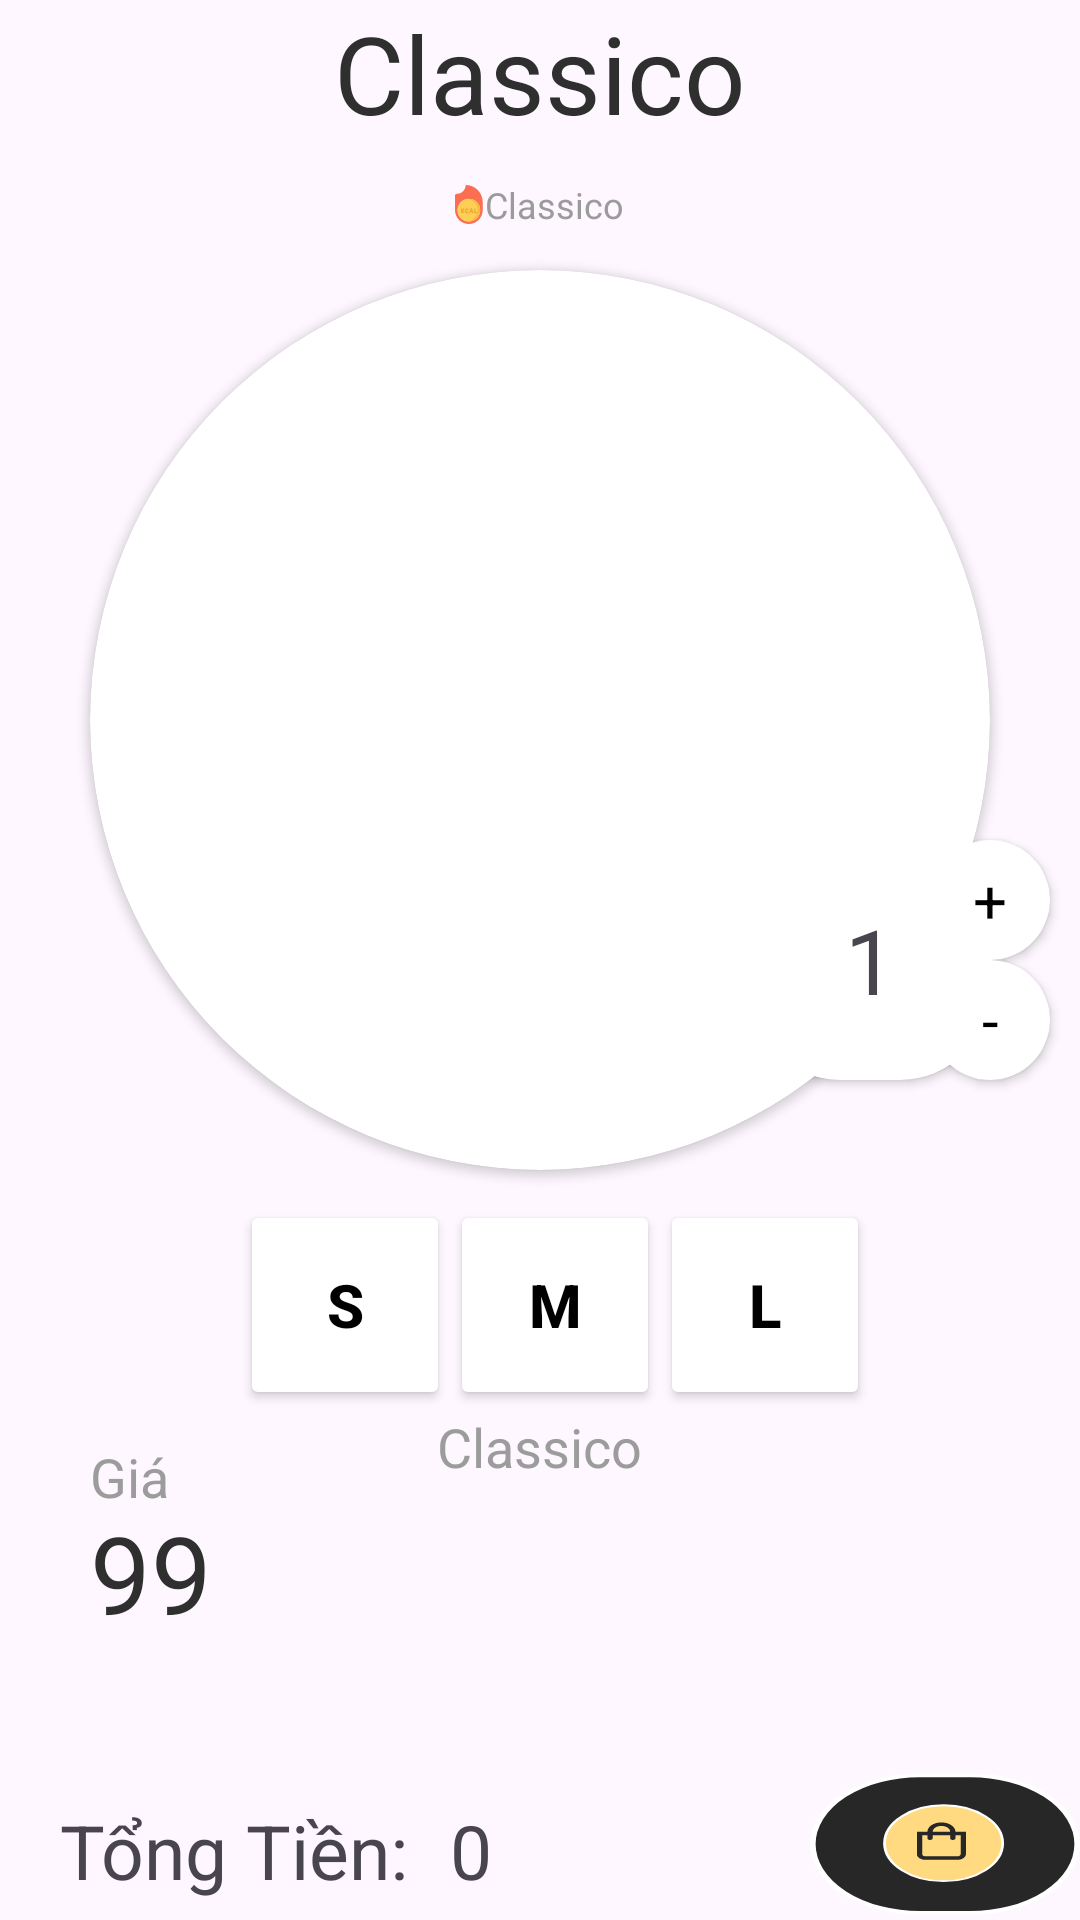

Named icons in this screenshot (1080*1920) and their centers, point (x, y):
buy: point (945, 1844)
